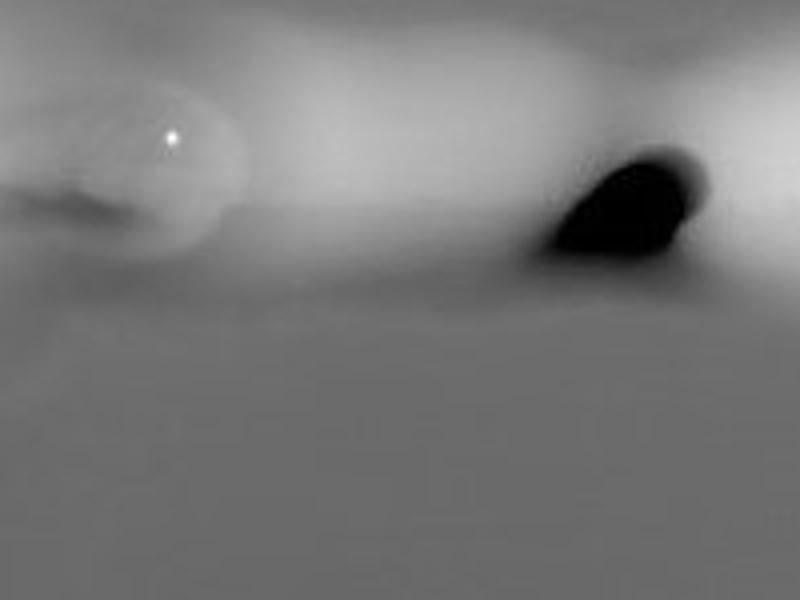defect: (544, 159, 695, 269)
